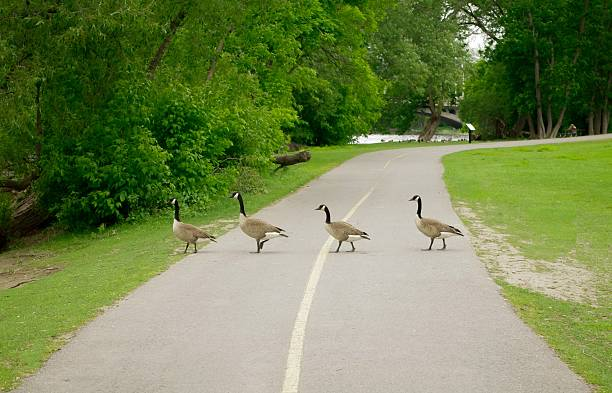goose: (229, 190, 291, 254), (408, 193, 465, 252), (166, 196, 219, 257), (314, 202, 372, 256)
